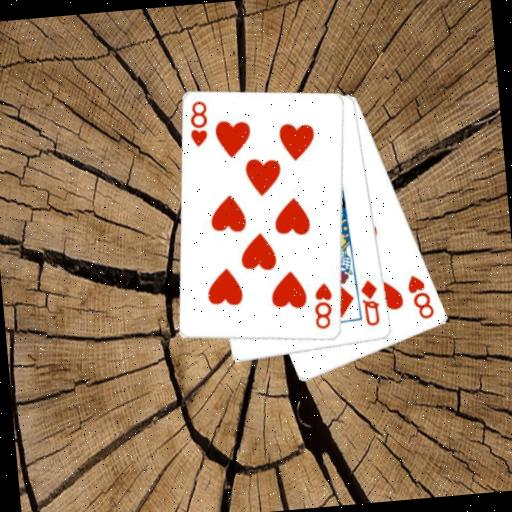8H: (404, 271, 437, 323), (309, 280, 337, 332), (185, 98, 212, 150)
QD: (357, 276, 383, 329)
